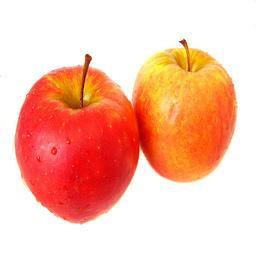apple: (13, 60, 140, 223), (133, 43, 237, 184)
